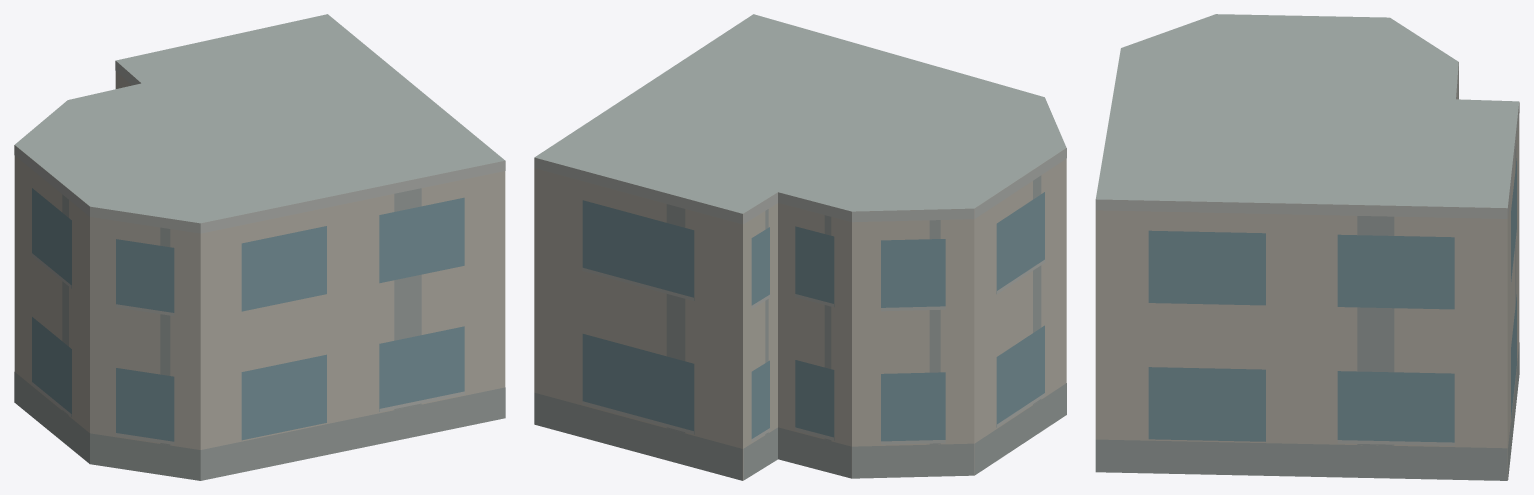
File: survey-upis-32704478.glb
3 renders of one model, left to right at view 1: azimuth 30°, elevation 25°; view 2: azimuth 150°, elevation 25°; view 3: azimuth 270°, elevation 25°, orthographic. The views are drawn at different scales.
Parts seen in each view (by area): view 1: survey-upis-32704478.tmp; view 2: survey-upis-32704478.tmp; view 3: survey-upis-32704478.tmp.
Part boxes in pixels (box(x1,y1,x2,y2)): survey-upis-32704478.tmp: box(14, 14, 505, 480); survey-upis-32704478.tmp: box(534, 14, 1066, 480); survey-upis-32704478.tmp: box(1095, 14, 1519, 480).
Size of the model in its own units: 9.32 by 6.1 by 8.6.
